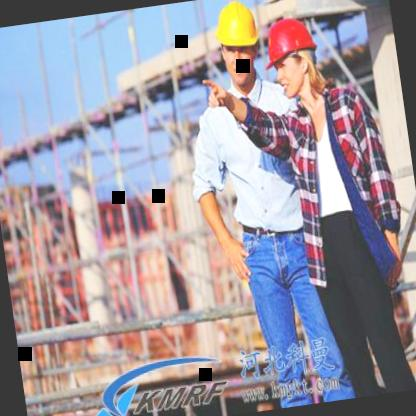helmet: (254, 8, 328, 104), (205, 0, 270, 94)
